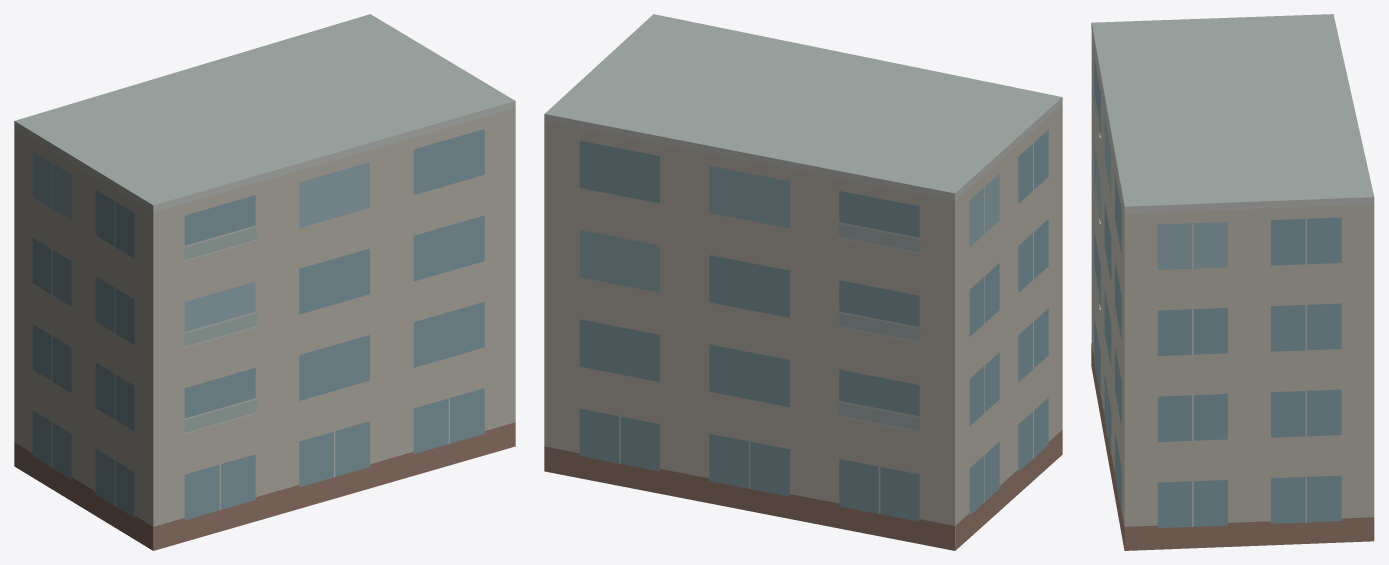
Rendered from survey-upis-32537211.glb.
3 renders of one model, left to right at view 1: azimuth 30°, elevation 25°; view 2: azimuth 150°, elevation 25°; view 3: azimuth 270°, elevation 25°, orthographic. The views are drawn at different scales.
Visible parts, largest first — view 1: survey-upis-32537211.tmp; view 2: survey-upis-32537211.tmp; view 3: survey-upis-32537211.tmp.
Part boxes in pixels (bbox=[...]): survey-upis-32537211.tmp: bbox=[14, 14, 515, 550]; survey-upis-32537211.tmp: bbox=[544, 14, 1062, 550]; survey-upis-32537211.tmp: bbox=[1091, 14, 1374, 550].
Size of the model in its own units: 14.18 by 11.8 by 8.8.
